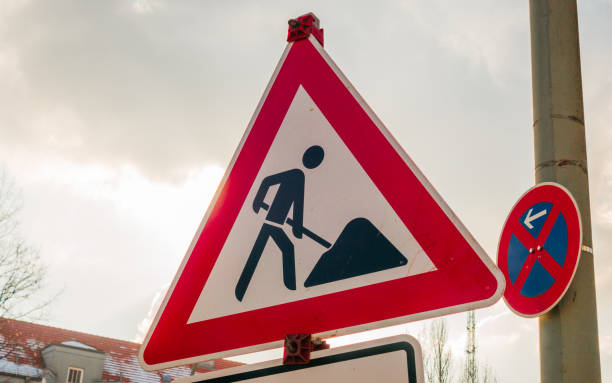yol_calismasi_levha: (133, 21, 511, 374)
